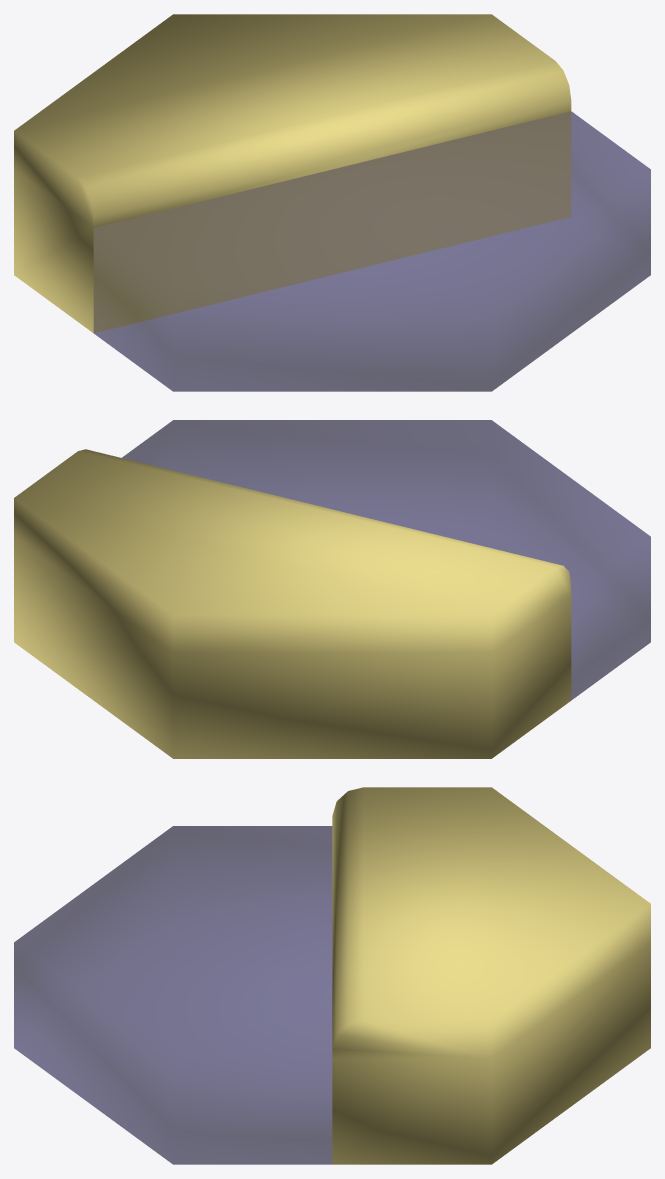
The model's file is HexCell_Beach_1.glb.
The picture shows the model from 3 angles, top to bottom: view 1: azimuth 30°, elevation 25°; view 2: azimuth 150°, elevation 25°; view 3: azimuth 270°, elevation 25°; orthographic projection.
Parts seen in each view (by area): view 1: HexCell_Beach_1; view 2: HexCell_Beach_1; view 3: HexCell_Beach_1.
Part boxes in pixels (bbox=[...]): HexCell_Beach_1: bbox=[14, 14, 650, 391]; HexCell_Beach_1: bbox=[14, 420, 650, 758]; HexCell_Beach_1: bbox=[14, 787, 650, 1164].
Bounding box in the file's own units: 1.73 × 0.5 × 2.
